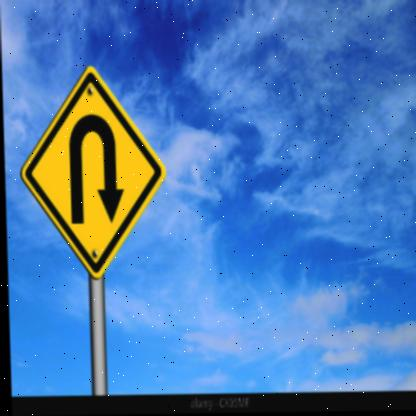U-turn: (16, 67, 166, 282)
